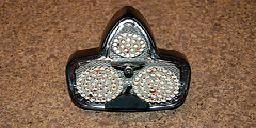LED: (64, 15, 194, 114), (131, 64, 184, 108), (78, 66, 120, 104), (109, 28, 151, 60)
